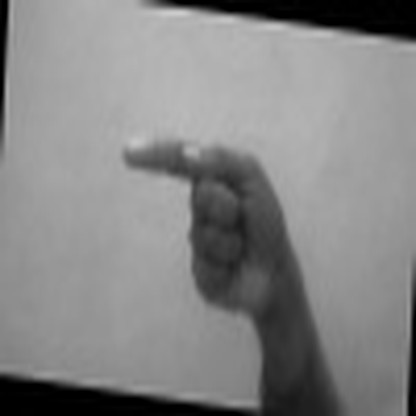g: (87, 129, 321, 314)
